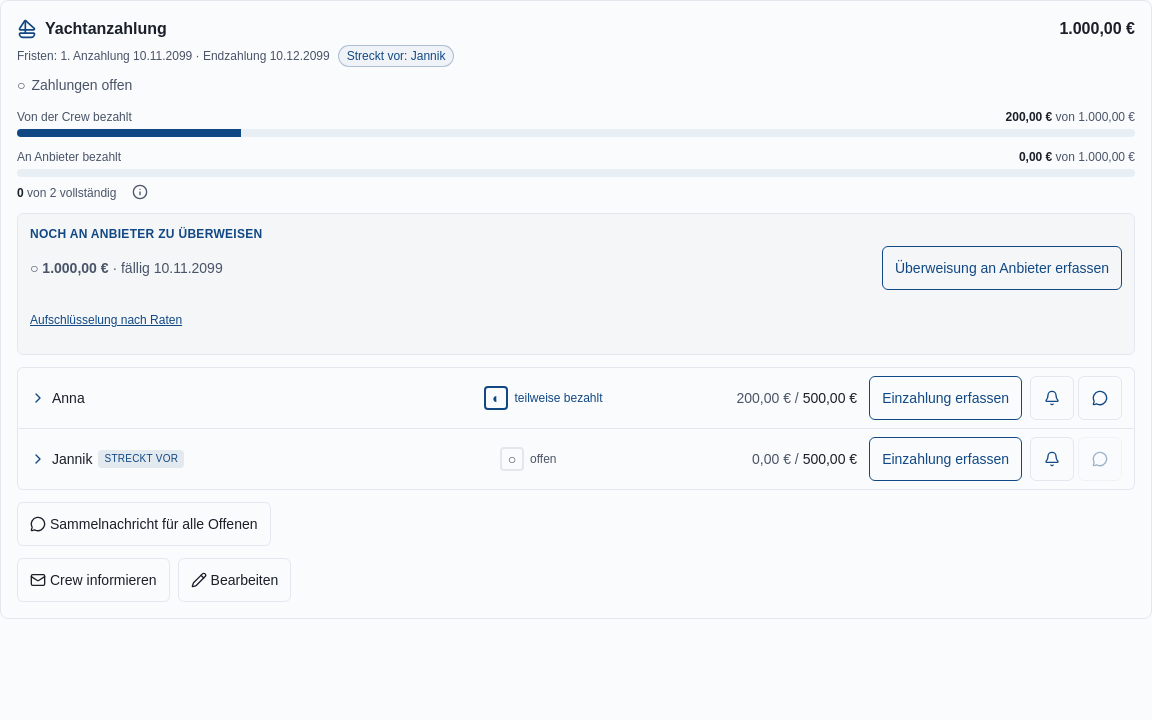
it: Anzahlungsplan: Personenliste › Zeilen-Knopf bei einer offenen Rate öffnet direkt deren Dialog (ohne „Welche Rate?“)
This screenshot has width=1152, height=720.
What coordinates should you click on to do the following:
click the button "Einzahlung erfassen" in the row of "teilweise bezahlt"
I would click on:
 (946, 398)
Its box is [869, 376, 1022, 420].
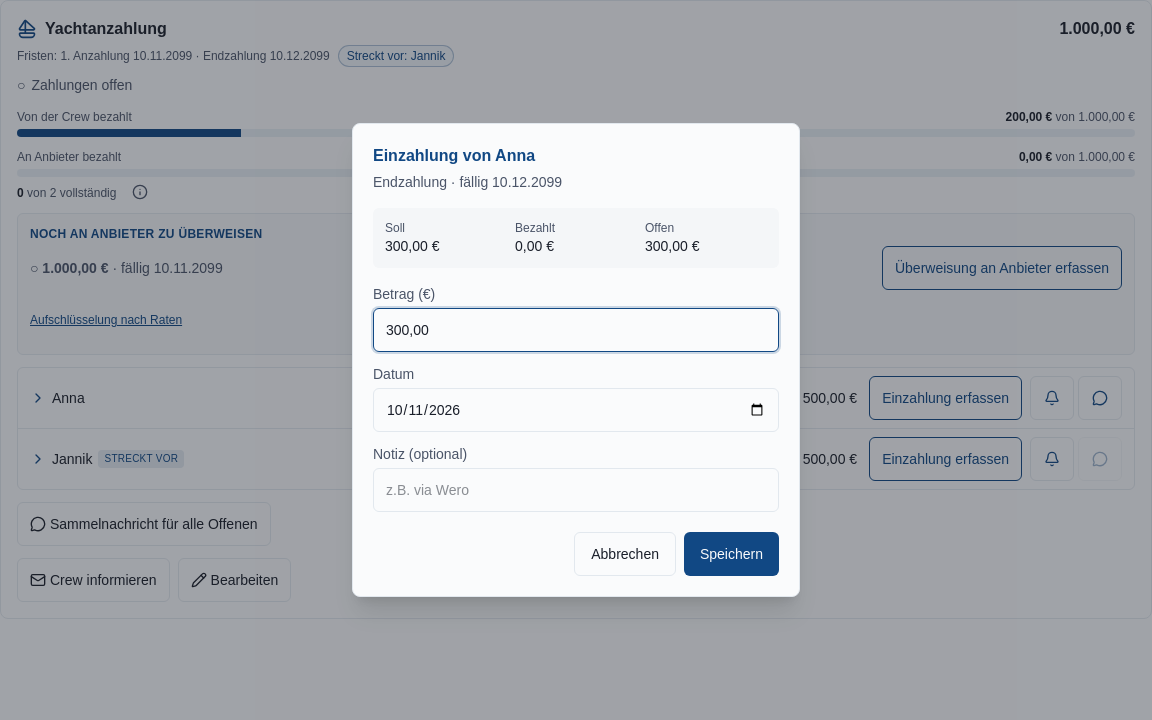
Result: the text "Einzahlung von Anna" is shown at [373, 147, 535, 164]
